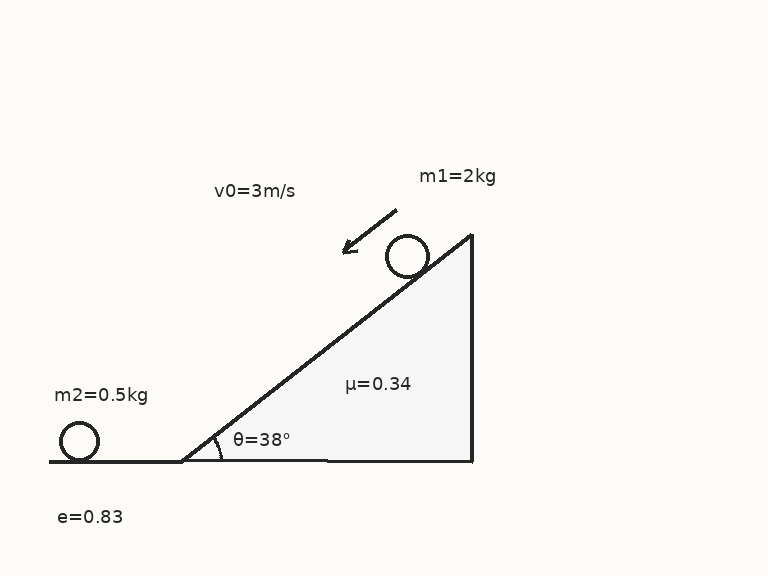ball: (383, 232, 431, 280), (57, 419, 101, 463)
ramp: (179, 232, 473, 463)
